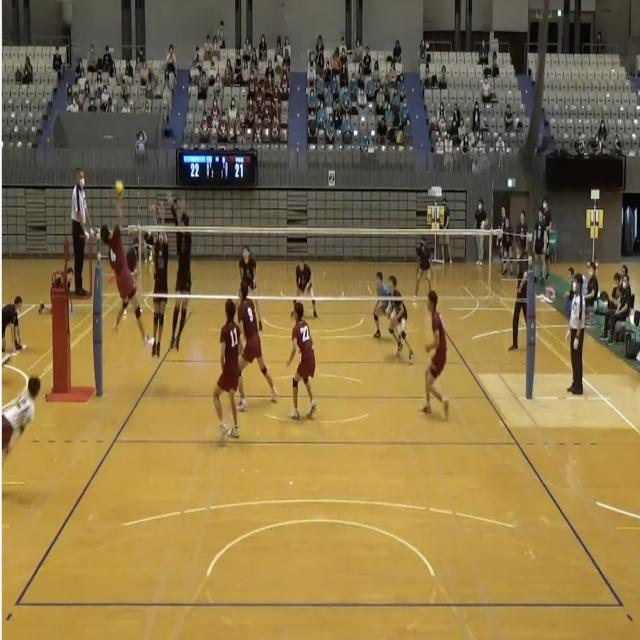spike: (98, 173, 157, 354)
